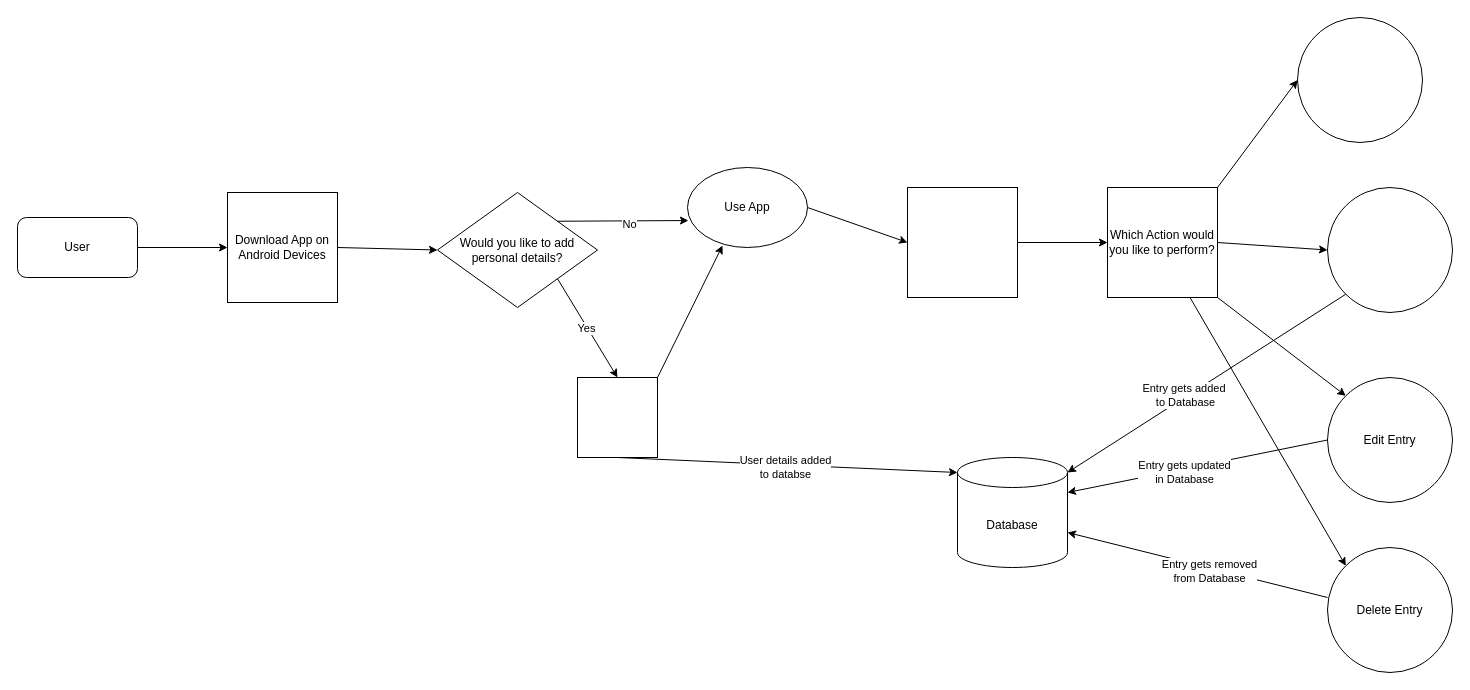
The diagram is 1470 pixels wide and 690 high, and some of its shapes have lost their labels. Here are the shapes that lost their labels. From the top down, the centre of each, then its label:
(1359,79): View Entry
(962,242): Which Movie would you like to perform an action on?
(1389,249): Create Entry
(617,417): Add info
